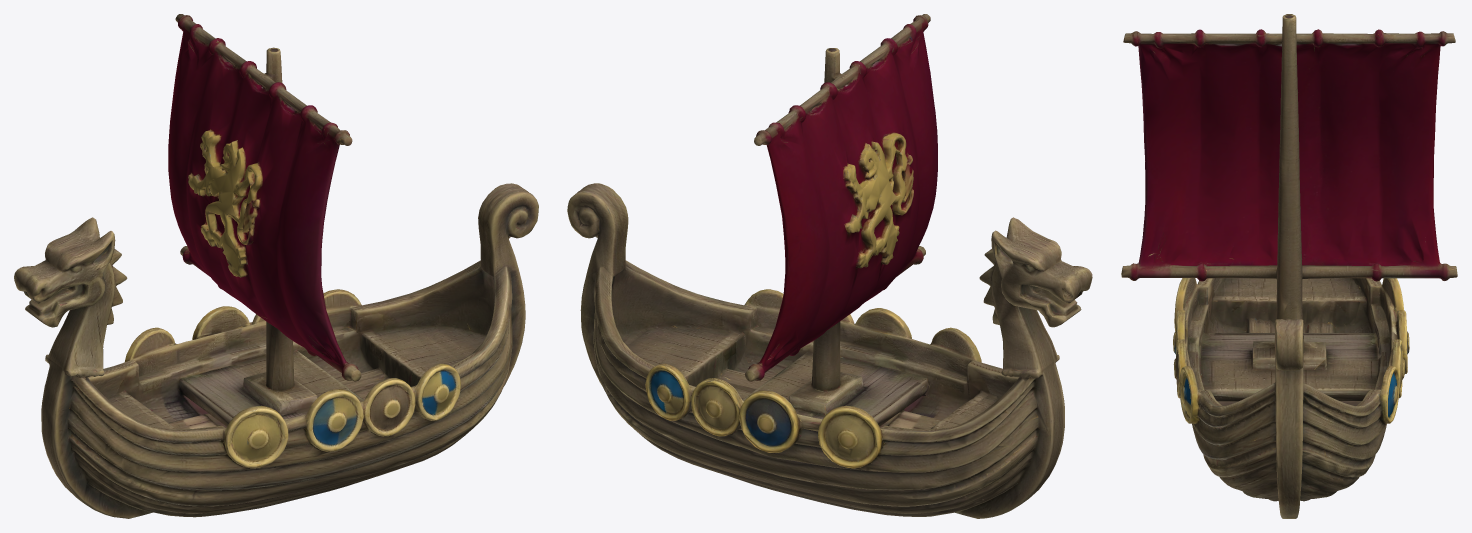
3 renders of one model, left to right at view 1: azimuth 30°, elevation 25°; view 2: azimuth 150°, elevation 25°; view 3: azimuth 270°, elevation 25°, orthographic. The views are drawn at different scales.
Visible parts, largest first — view 1: Mesh_0; view 2: Mesh_0; view 3: Mesh_0.
Boxes of the visible parts, x1,y1,x2,y2 form: Mesh_0: [14, 14, 538, 518]; Mesh_0: [567, 14, 1092, 518]; Mesh_0: [1121, 14, 1457, 518].
Size of the model in its own units: 1.9 by 1.53 by 1.11.
1 material, 1 textured.
